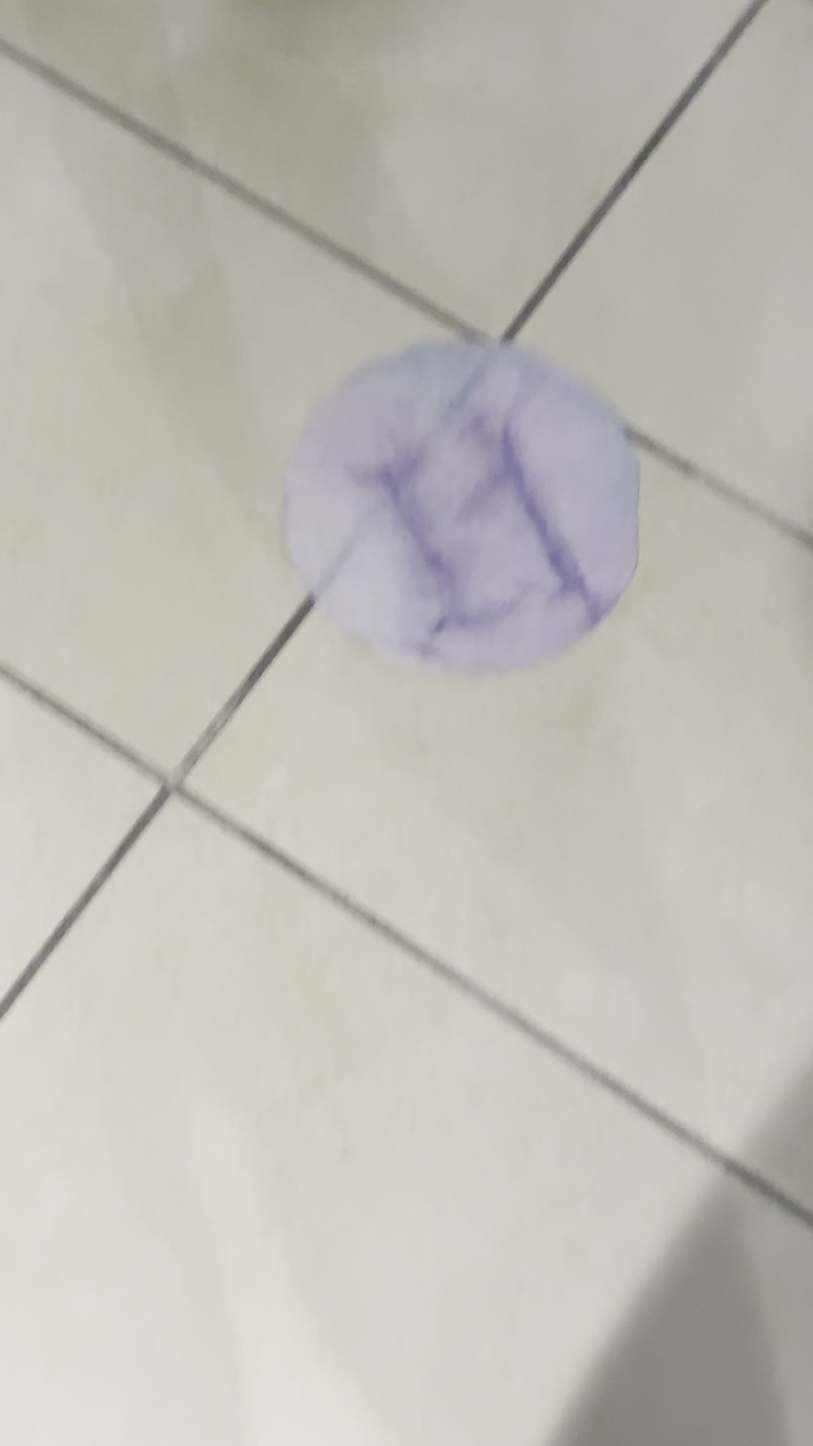Target: (285, 339, 639, 675)
